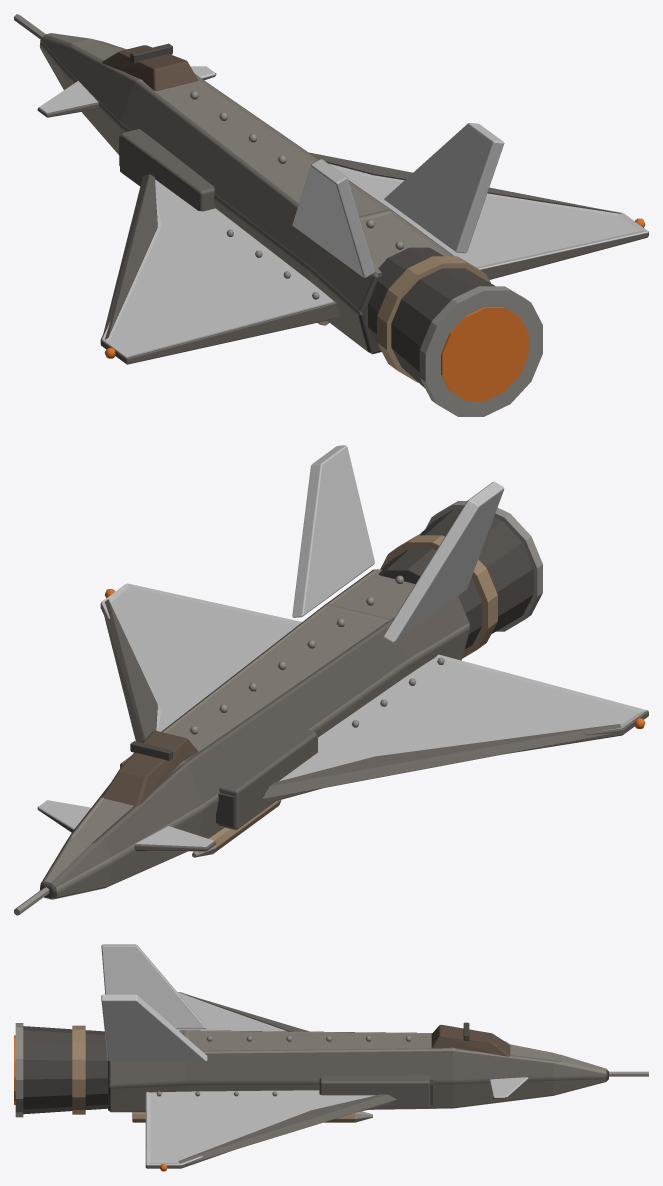
Rendered from crucible_interceptor.glb.
The picture shows the model from 3 angles, top to bottom: view 1: azimuth 30°, elevation 25°; view 2: azimuth 150°, elevation 25°; view 3: azimuth 270°, elevation 25°; orthographic projection. The views are drawn at different scales.
Visible parts, largest first — view 1: Body; view 2: Body; view 3: Body.
Boxes of the visible parts, x1,y1,x2,y2 form: Body: [14, 14, 648, 416]; Body: [14, 445, 648, 915]; Body: [14, 944, 648, 1171].
Size of the model in its own units: 1.9 by 0.7183 by 2.85.
